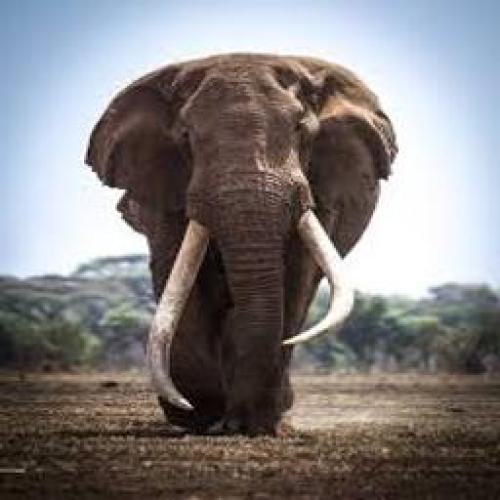african_elephant-endangered: (107, 60, 380, 434)
